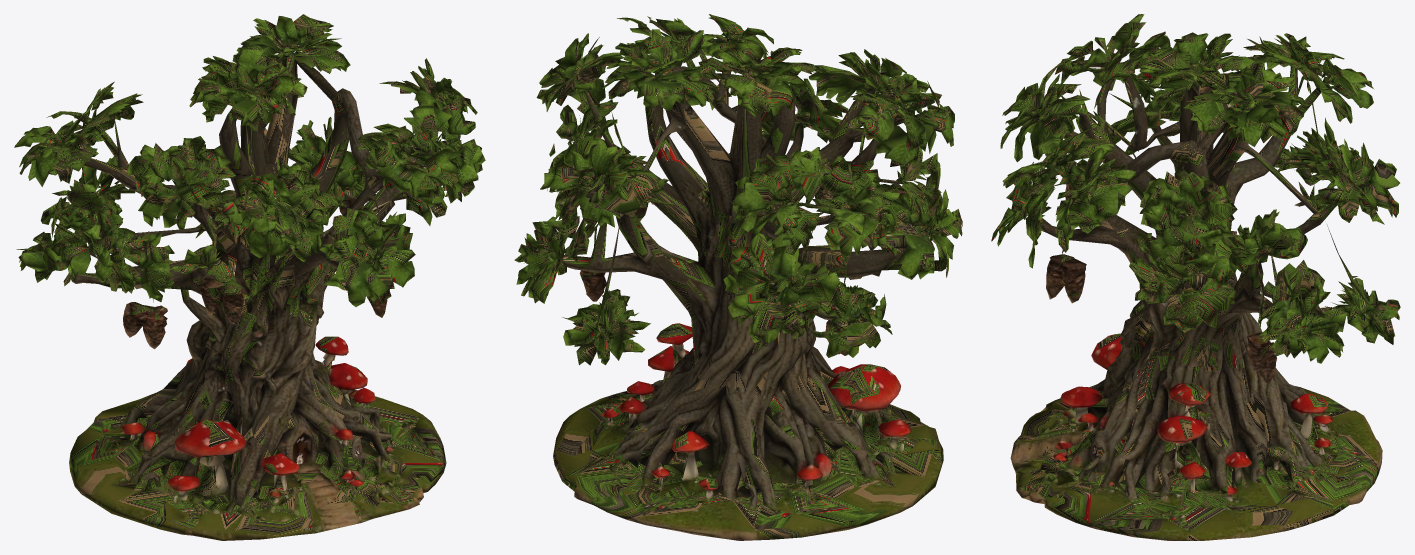
File: glade-tree-lod.glb
The picture shows the model from 3 angles, left to right: view 1: azimuth 30°, elevation 25°; view 2: azimuth 150°, elevation 25°; view 3: azimuth 270°, elevation 25°; orthographic projection. The views are drawn at different scales.
Parts seen in each view (by area): view 1: tripo_node_c836831d-f7bc-416a-beec-f39f0b2afcd7; view 2: tripo_node_c836831d-f7bc-416a-beec-f39f0b2afcd7; view 3: tripo_node_c836831d-f7bc-416a-beec-f39f0b2afcd7.
Part boxes in pixels (bbox=[...]): tripo_node_c836831d-f7bc-416a-beec-f39f0b2afcd7: bbox=[14, 14, 485, 540]; tripo_node_c836831d-f7bc-416a-beec-f39f0b2afcd7: bbox=[514, 14, 962, 540]; tripo_node_c836831d-f7bc-416a-beec-f39f0b2afcd7: bbox=[991, 14, 1400, 540].
Bounding box in the file's own units: 0.9955 × 0.999 × 0.9.
1 material, 1 textured.
